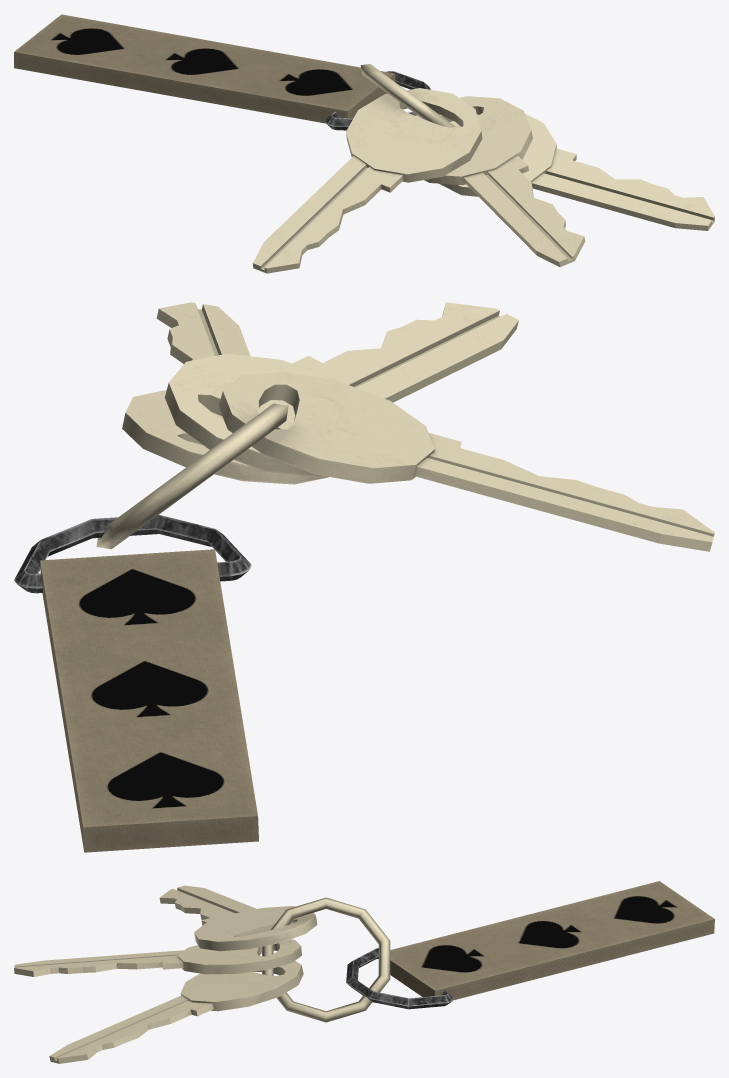
The model's file is KeyForGame.fbx.
3 renders of one model, top to bottom at view 1: azimuth 30°, elevation 25°; view 2: azimuth 150°, elevation 25°; view 3: azimuth 270°, elevation 25°, orthographic. The views are drawn at different scales.
Parts seen in each view (by area): view 1: Plane.001, Cylinder.004, Cylinder.002, Cylinder.005; view 2: Plane.001, Cylinder.004, Cylinder.002, Cylinder.005; view 3: Plane.001, Cylinder.005, Cylinder.004, Cylinder.002.
Part boxes in pixels (x1=…): Plane.001: x1=14, y1=14, x2=455, y2=130; Cylinder.004: x1=252, y1=88, x2=482, y2=273; Cylinder.002: x1=416, y1=96, x2=585, y2=267; Cylinder.005: x1=439, y1=114, x2=714, y2=230; Plane.001: x1=14, y1=403, x2=288, y2=852; Cylinder.004: x1=218, y1=372, x2=714, y2=551; Cylinder.002: x1=165, y1=302, x2=518, y2=477; Cylinder.005: x1=122, y1=302, x2=328, y2=484; Plane.001: x1=262, y1=881, x2=714, y2=1022; Cylinder.005: x1=49, y1=961, x2=303, y2=1063; Cylinder.004: x1=159, y1=885, x2=317, y2=951; Cylinder.002: x1=14, y1=939, x2=301, y2=976.
Bounding box in the file's own units: 20.49 × 4.54 × 34.3.
